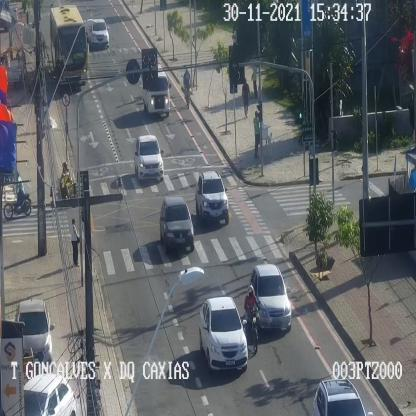bicycle: (183, 66, 192, 110)
bus: (51, 5, 87, 87)
car: (199, 296, 241, 370), (251, 264, 293, 331), (16, 299, 54, 364), (25, 372, 77, 416), (160, 197, 194, 252), (196, 170, 229, 225), (143, 64, 172, 116), (135, 134, 163, 182), (90, 19, 110, 49)
motorbike: (5, 172, 31, 220), (244, 285, 262, 353)
person: (70, 218, 80, 266), (253, 111, 260, 157), (242, 77, 249, 118), (251, 64, 259, 98), (232, 27, 238, 46)
